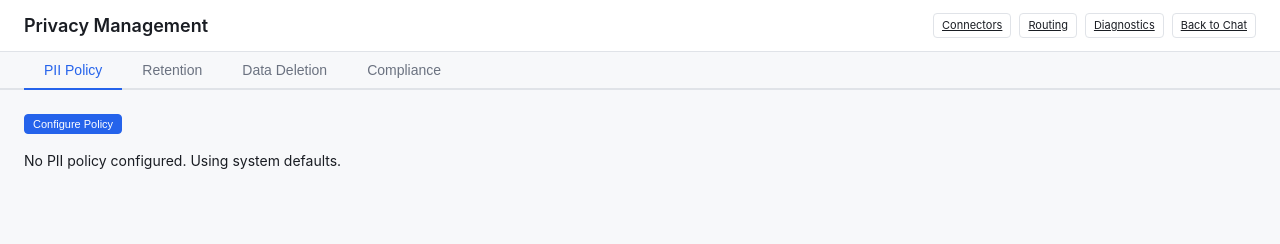
Test: PrivacyAdminPage › switches to deletion tab
What coordinates should you click on to do the following:
click the button "Data Deletion"
I would click on:
 (285, 71)
Its box is [222,52,347,90].
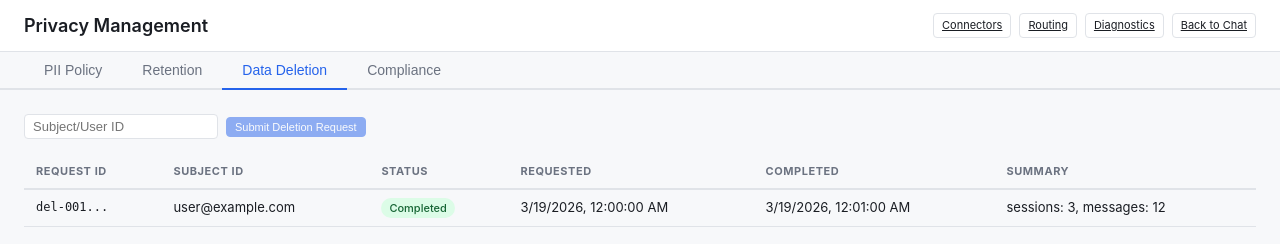
Expected: the text "user@example.com" is shown, [161,188,369,226]
Expected: the table with test id "deletion-table" is shown, [24,155,1256,227]
